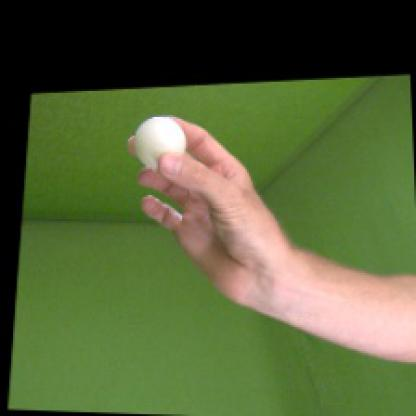Hand: (128, 115, 285, 303)
